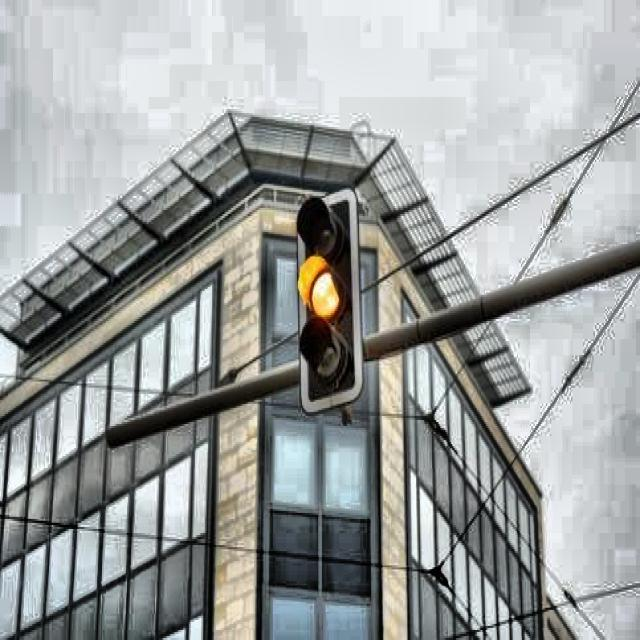yellow: (299, 212, 351, 390)
